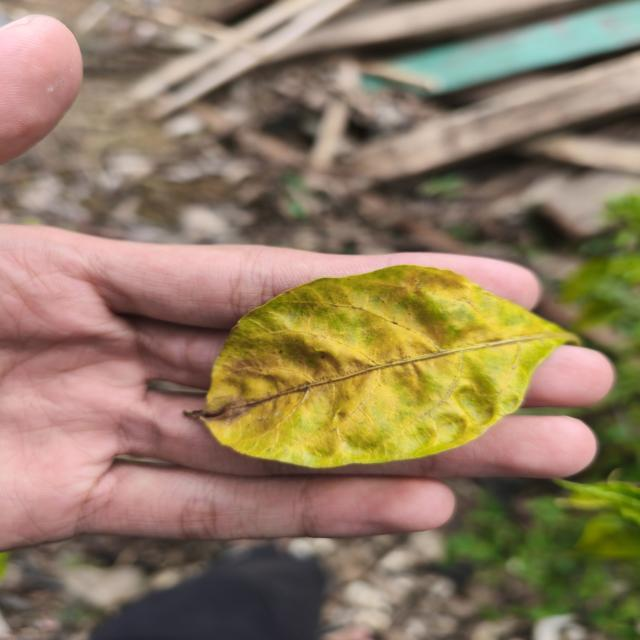Virus Kuning: (182, 263, 582, 469)
